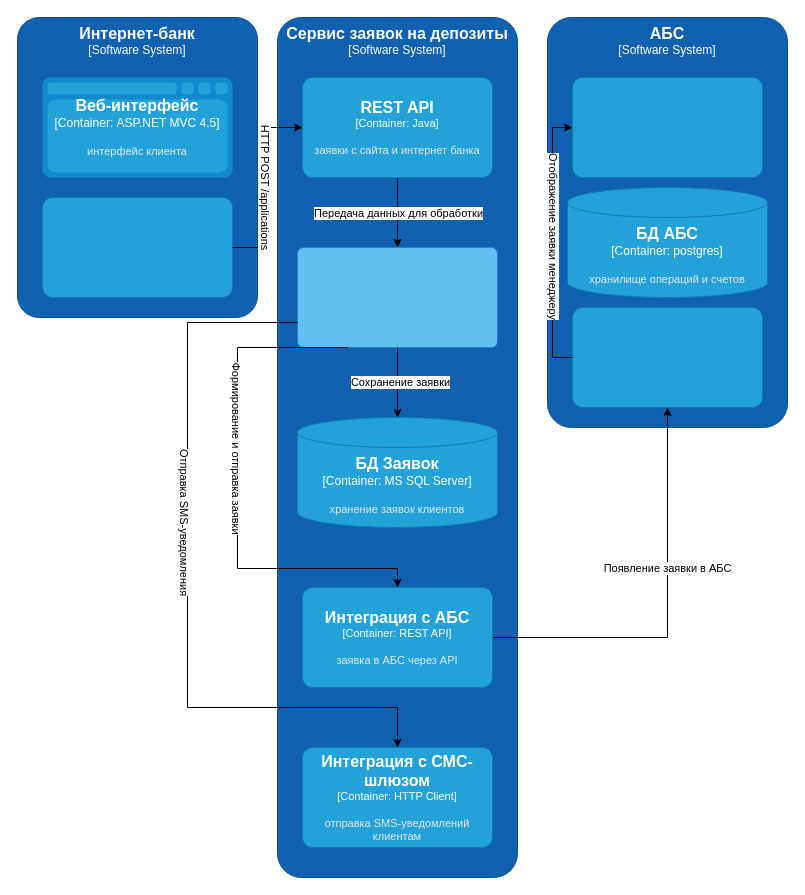
Image size: 805x895. Some labels were removed from this diagram. The centre of each missing label's shape, as x and y in pixels:
API-шлюз [Container: Java] сервис для подачи заявки: the point at 137,247
Бизнес-логика [: Java] обработка данных заявки, проверка правил: the point at 397,297
Десктопный клиент [Container: C++] интерфейс для сотрудников: the point at 667,127
Модуль: Заявки [Container: sql] интерфейс для обработки онлайн-заявок: the point at 667,357
